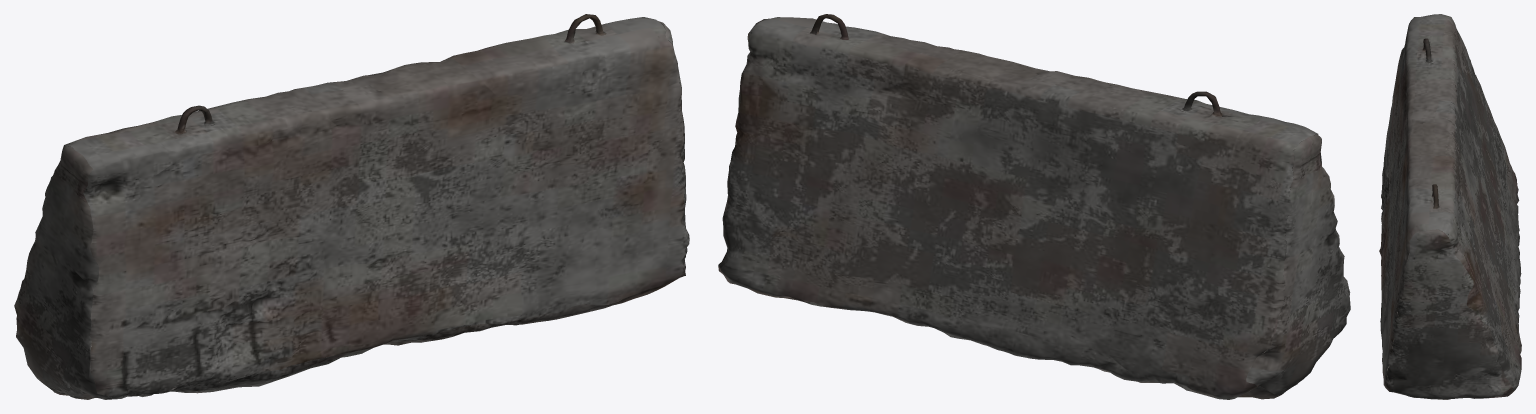
File: concrete_barrier.glb
3 views of the same model, side by side, from view 1: azimuth 30°, elevation 25°; view 2: azimuth 150°, elevation 25°; view 3: azimuth 270°, elevation 25° (orthographic). The views are drawn at different scales.
Visible parts, largest first — view 1: concrete_barrier; view 2: concrete_barrier; view 3: concrete_barrier.
Boxes of the visible parts, x1,y1,x2,y2 form: concrete_barrier: [14, 14, 689, 399]; concrete_barrier: [718, 14, 1350, 399]; concrete_barrier: [1379, 14, 1521, 399].
Size of the model in its own units: 2.2 by 0.9487 by 0.6199.
Materials: 1 (1 with a texture image).
